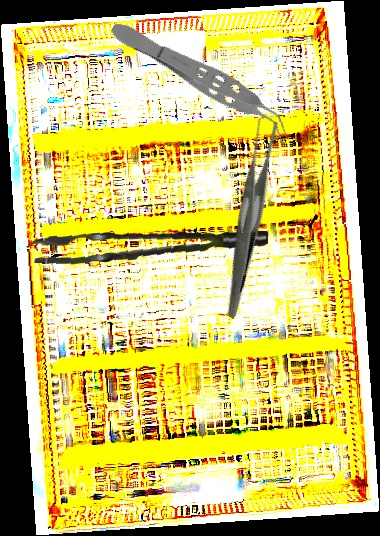Dressing Forceps: (167, 113, 328, 320)
Tissue Forceps: (104, 13, 299, 145), (31, 214, 269, 280)
